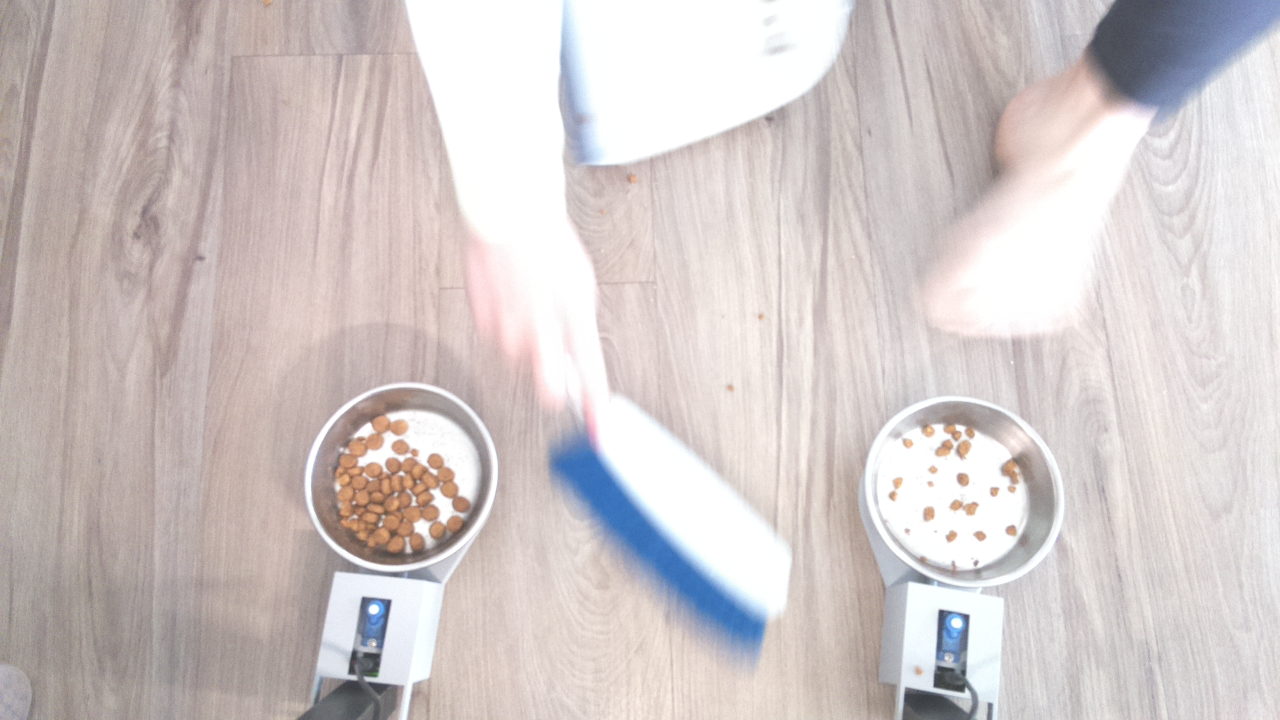open_bowl: (857, 394, 1069, 589), (301, 386, 512, 571)
